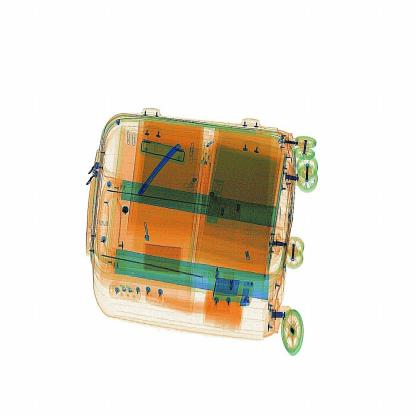pliers: (130, 131, 189, 198)
